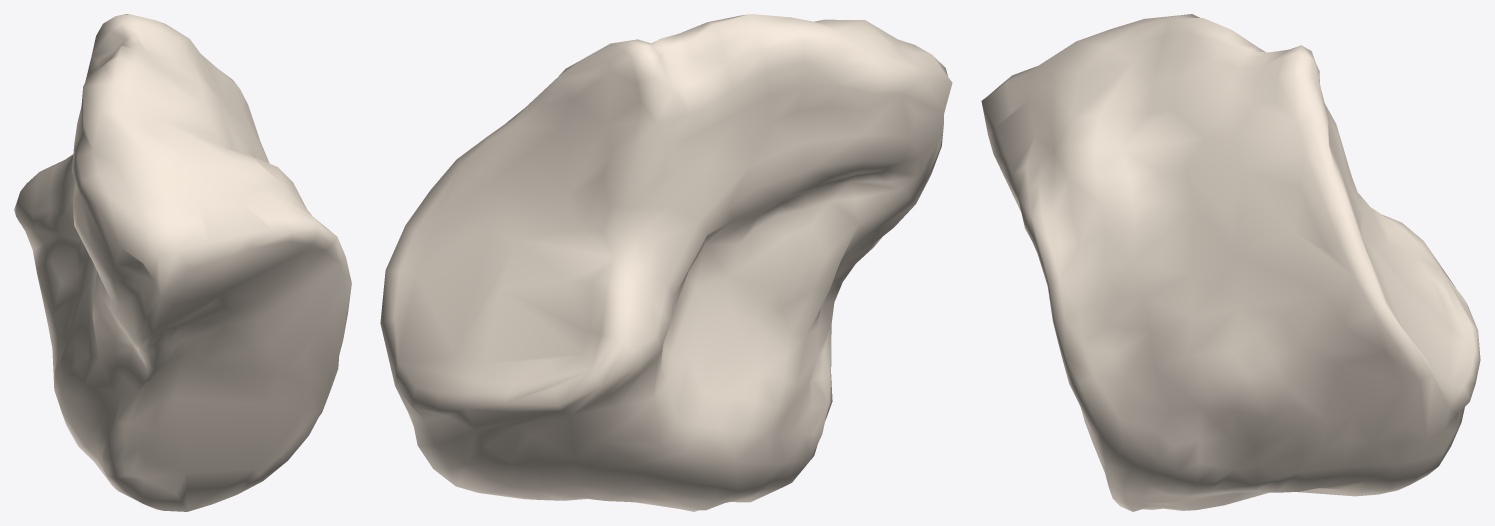
Rendered from right_medial_cuneiform.glb.
3 renders of one model, left to right at view 1: azimuth 30°, elevation 25°; view 2: azimuth 150°, elevation 25°; view 3: azimuth 270°, elevation 25°, orthographic. The views are drawn at different scales.
Visible parts, largest first — view 1: Medial cuneiform bone.r; view 2: Medial cuneiform bone.r; view 3: Medial cuneiform bone.r.
Boxes of the visible parts, left/top/right/bottom form: Medial cuneiform bone.r: left=14, top=14, right=351, bottom=511; Medial cuneiform bone.r: left=380, top=14, right=952, bottom=511; Medial cuneiform bone.r: left=981, top=14, right=1480, bottom=511.
Size of the model in its own units: 0.0239 by 0.0331 by 0.0322.
